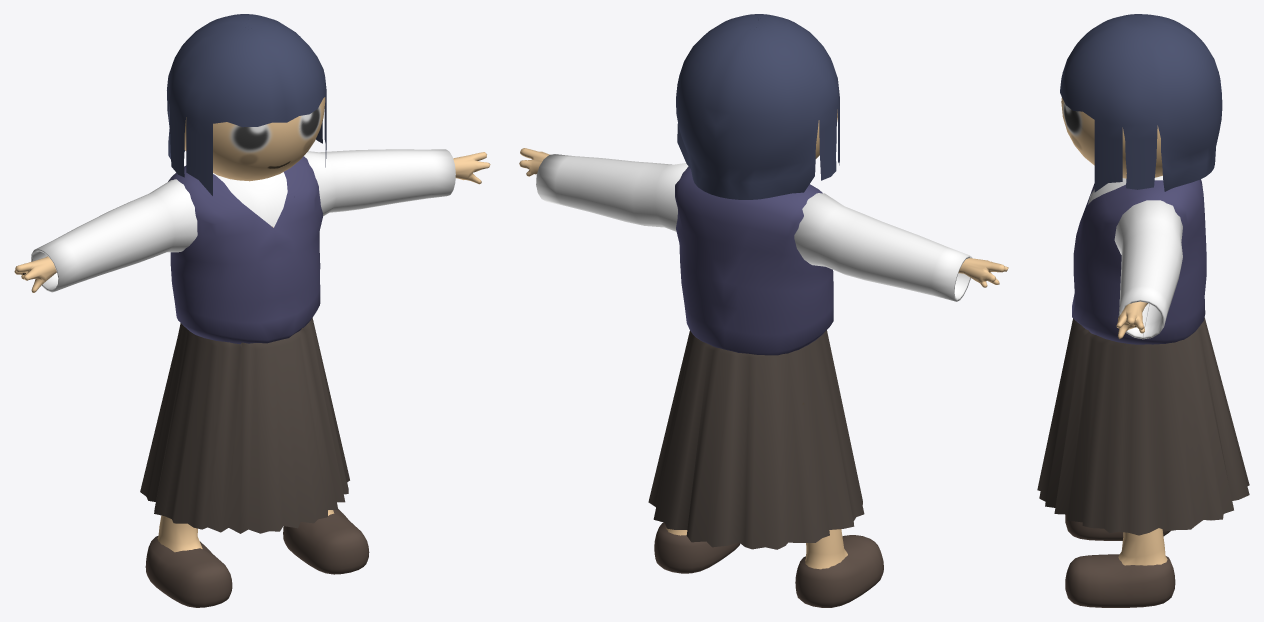
Rendered from character_school uniform01.fbx.
3 views of the same model, side by side, from view 1: azimuth 30°, elevation 25°; view 2: azimuth 150°, elevation 25°; view 3: azimuth 270°, elevation 25° (orthographic). The views are drawn at different scales.
Parts seen in each view (by area): view 1: Cylinder.009, HEAD.016, HEAD.017, BODY.016; view 2: Cylinder.009, HEAD.016, BODY.016; view 3: Cylinder.009, HEAD.016, BODY.016, HEAD.017.
Boxes of the visible parts, x1,y1,x2,y2 form: Cylinder.009: (31,149,455,607); HEAD.016: (167,14,326,195); HEAD.017: (184,97,325,181); BODY.016: (14,152,490,552); Cylinder.009: (536,154,972,607); HEAD.016: (676,14,839,199); BODY.016: (519,148,1008,569); Cylinder.009: (1037,176,1249,607); HEAD.016: (1060,14,1222,192); BODY.016: (1116,301,1167,565); HEAD.017: (1061,98,1162,178).
Bounding box in the file's own units: 381 × 420 × 148.
